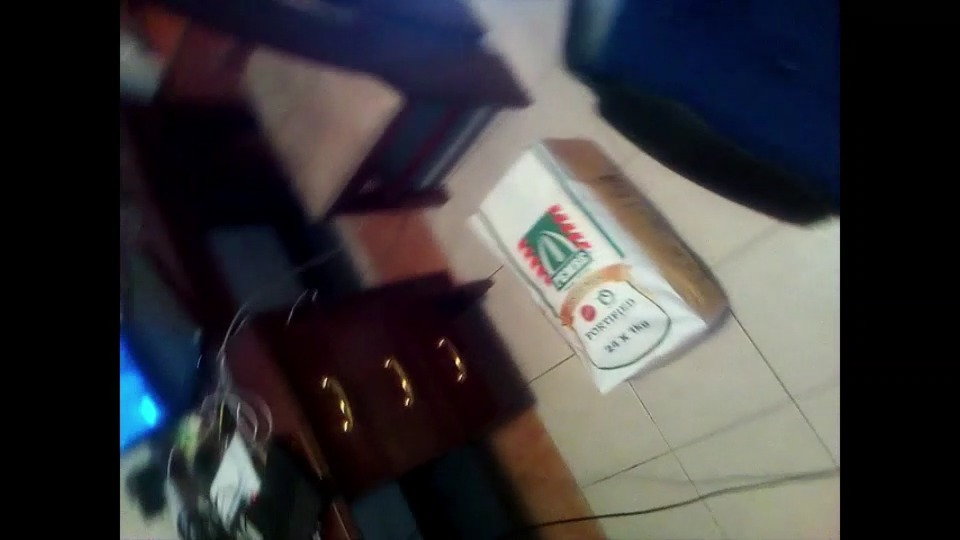maize_flour_green_label: (473, 140, 733, 392)
